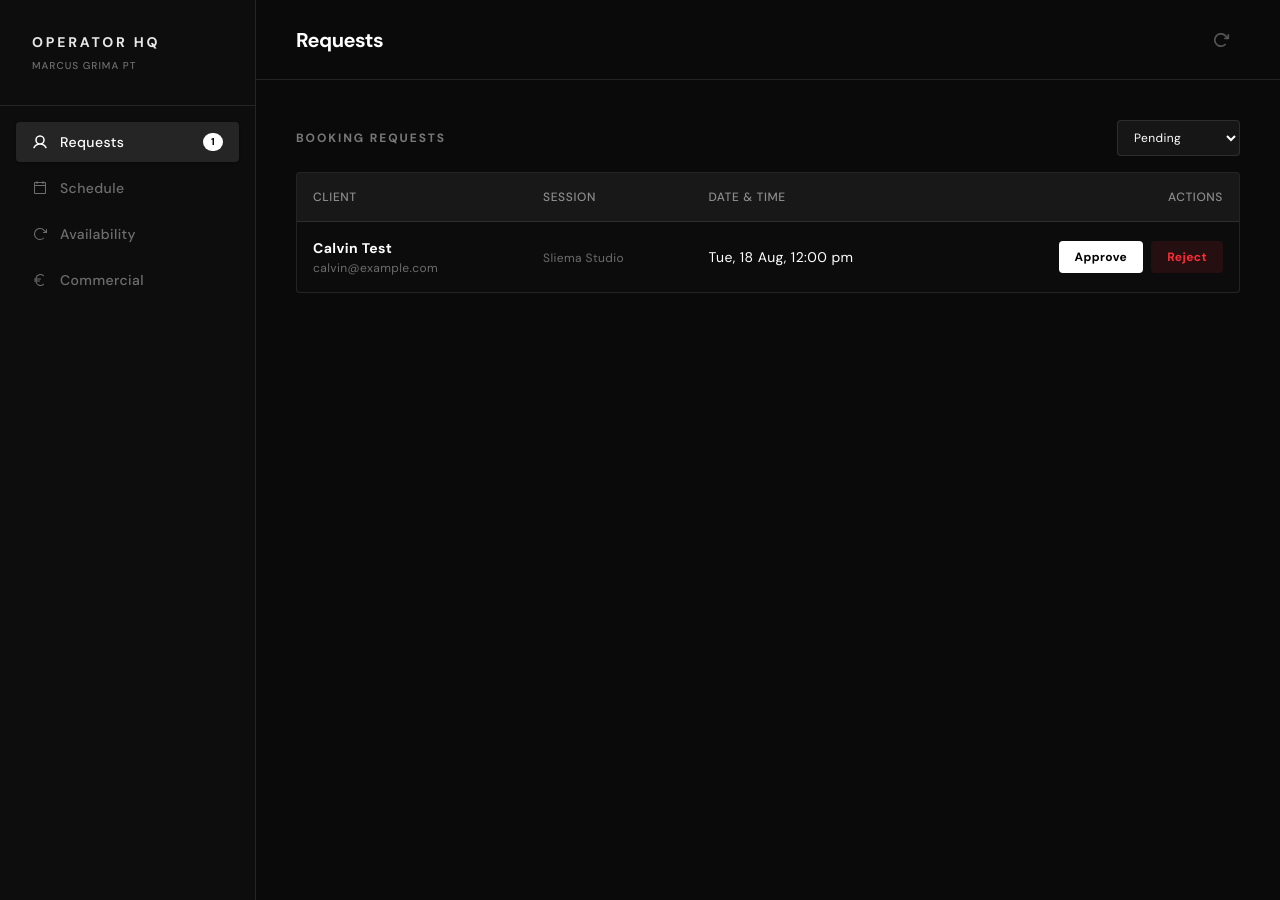
Test: MarcusSessionsHQ weekly schedule › keeps request approval available and exposes the availability workspace
Expected: the button "Calvin Test" is shown, x1=313 y1=238 x2=392 y2=258
Click the button "Availability" at (128, 234), box x1=16 y1=214 x2=239 y2=254
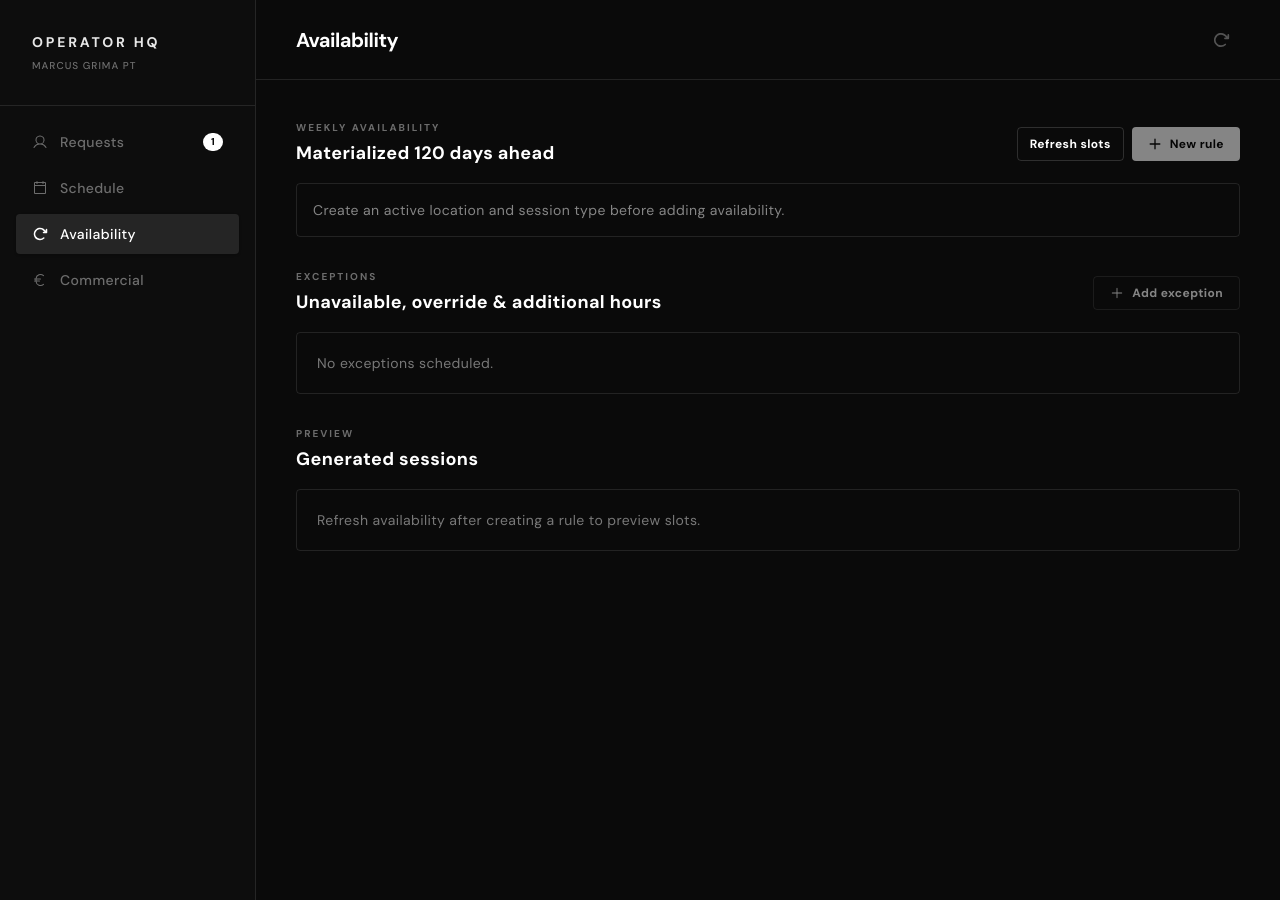
Expected: the heading "Materialized 120 days ahead" is shown, x1=296 y1=139 x2=555 y2=167
Expected: the text "Create an active location and session type before adding availability." is shown, x1=296 y1=183 x2=1240 y2=237
